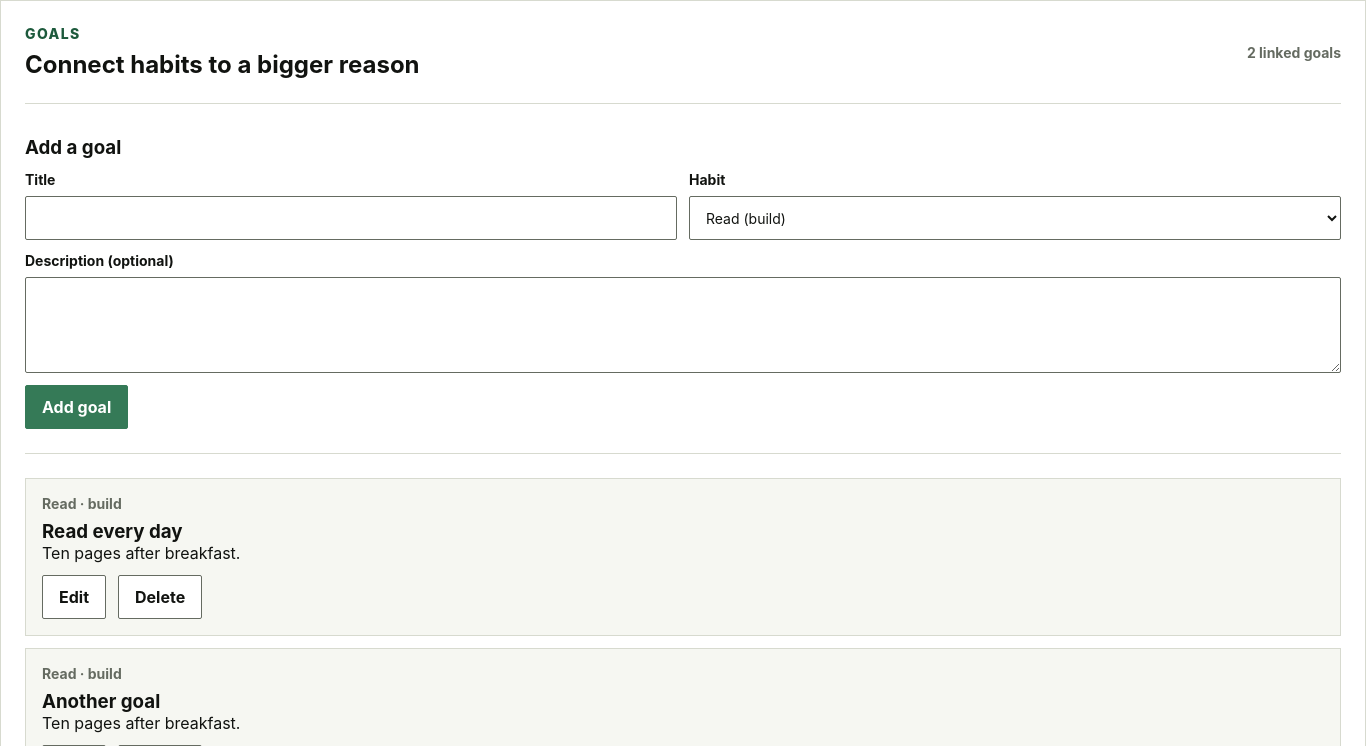
GoalManager › handles deletion of an failed goal while the edit form is open
The width and height of the screenshot is (1366, 746).
Click the button "Edit" below "Read every day".
click(74, 597)  # box [42,575,106,619]
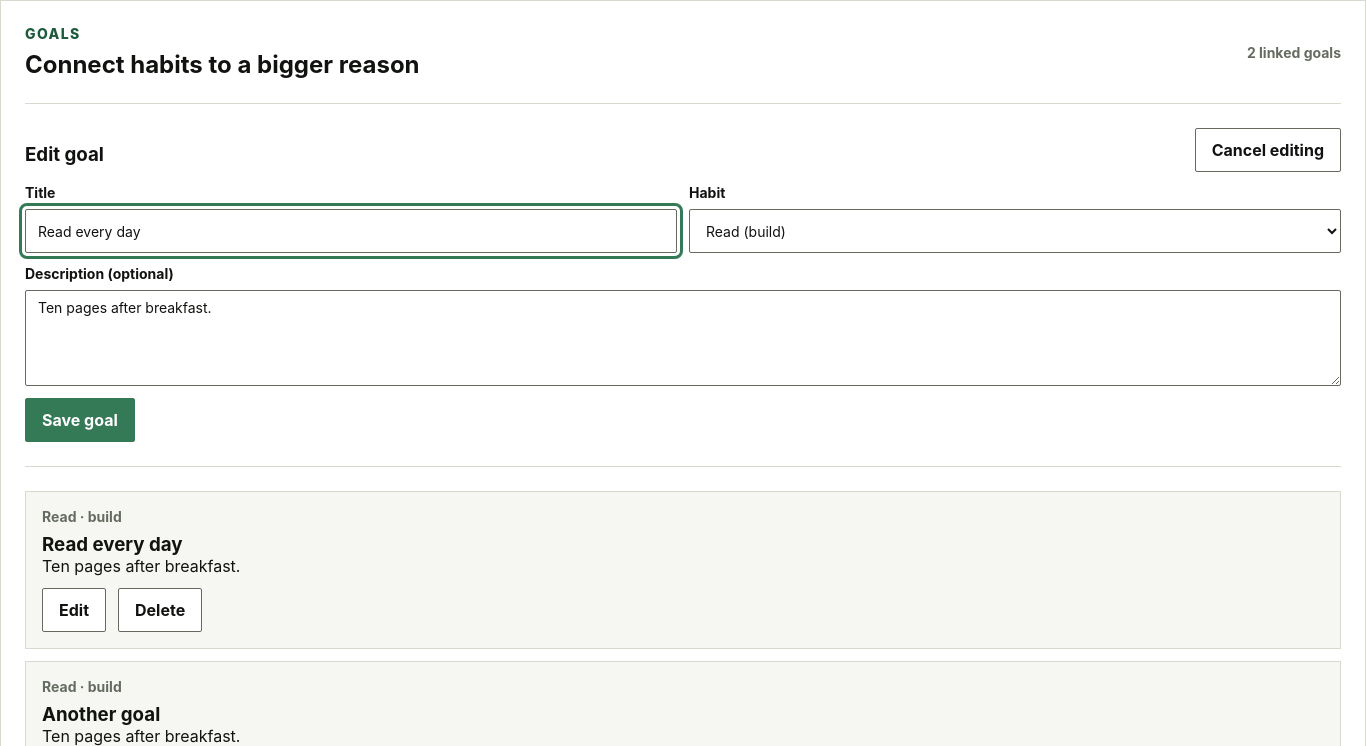
Expected: the field labelled "Title" holds "Read every day", [25,209,677,253]
Expected: the text box labelled "Description (optional)" holds "Ten pages after breakfast.", [25,290,1341,386]
Click the button "Delete" below "Read every day".
click(160, 610)  # box [118,588,202,632]
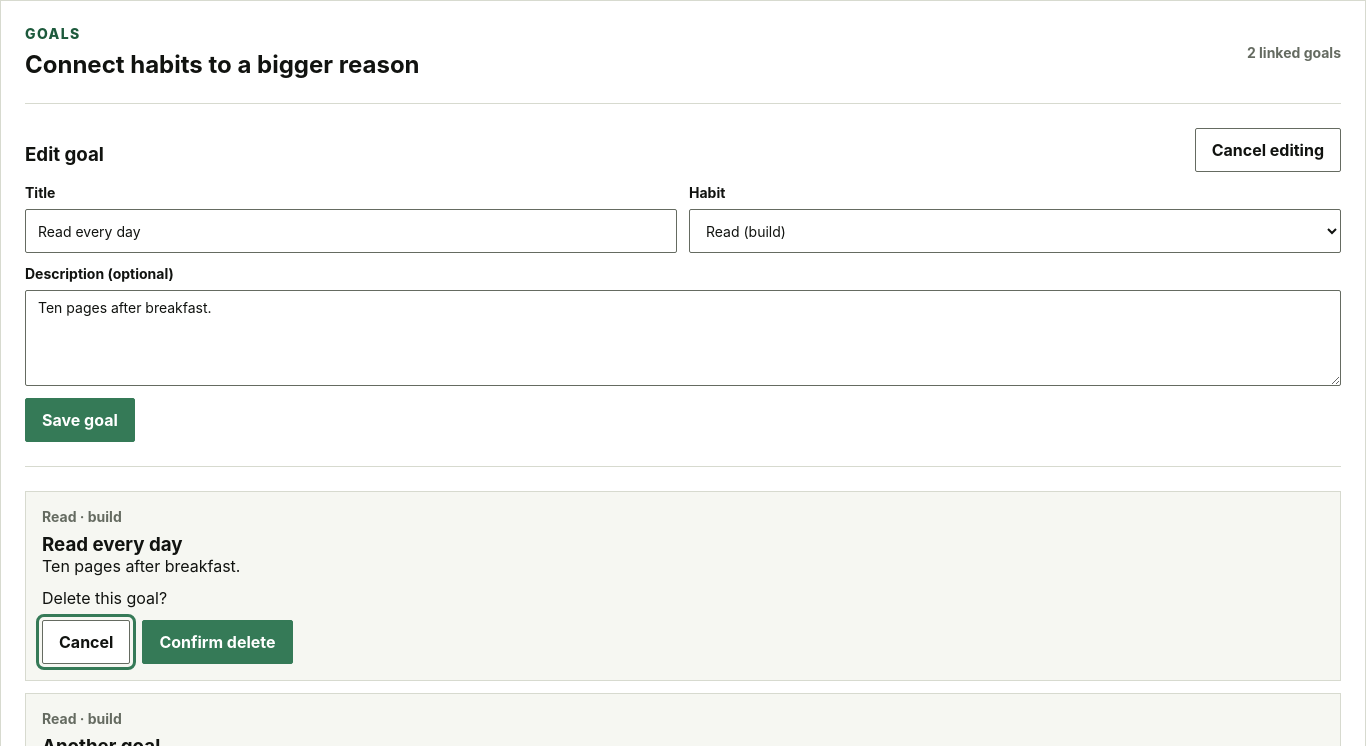
Click the button "Confirm delete".
click(218, 642)  # box [142,620,293,664]
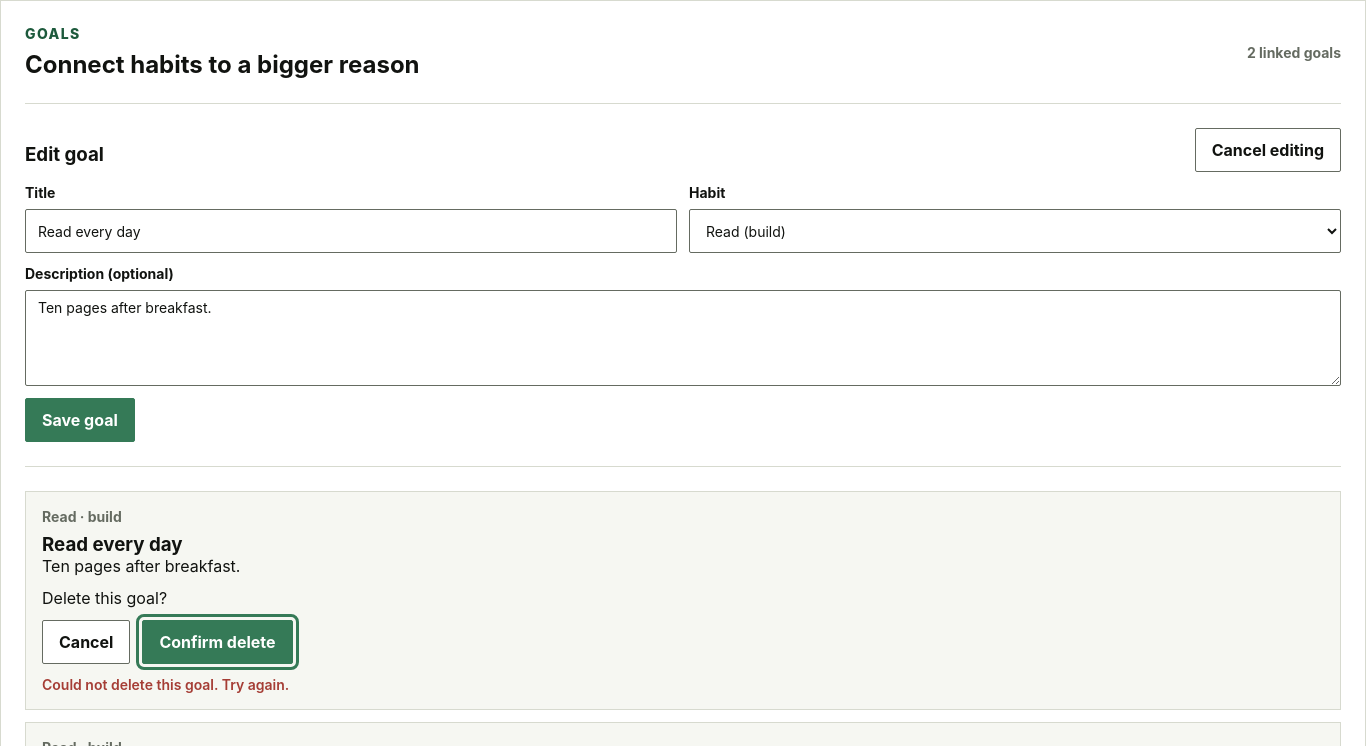
Expected: the field labelled "Title" holds "Read every day", [25,209,677,253]
Expected: the text box labelled "Description (optional)" holds "Ten pages after breakfast.", [25,290,1341,386]
Expected: the text "Could not delete this goal. Try again." is shown, [42,676,289,693]
